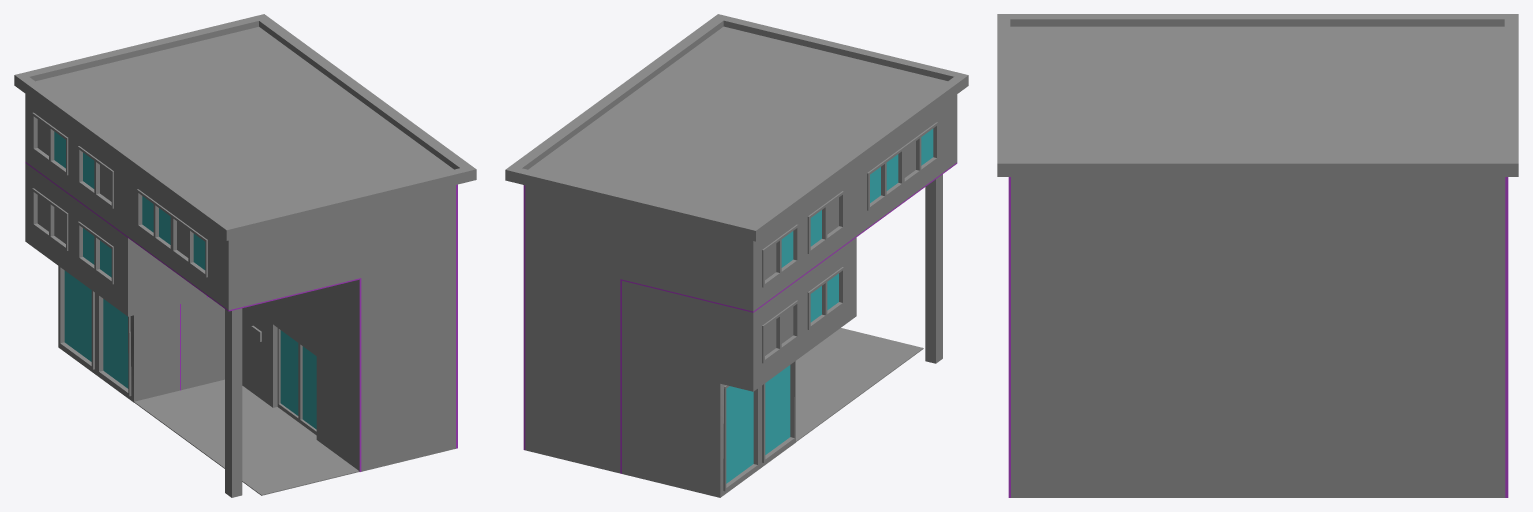
Rendered from BuildingS_07_var1.fbx.
The picture shows the model from 3 angles, left to right: view 1: azimuth 30°, elevation 25°; view 2: azimuth 150°, elevation 25°; view 3: azimuth 270°, elevation 25°; orthographic projection. The views are drawn at different scales.
Visible parts, largest first — view 1: BuildingS_07_var1; view 2: BuildingS_07_var1; view 3: BuildingS_07_var1.
Part boxes in pixels (x1,y1,x2,y2): BuildingS_07_var1: [14, 14, 476, 497]; BuildingS_07_var1: [505, 14, 968, 497]; BuildingS_07_var1: [997, 14, 1518, 497].
Bounding box in the file's own units: 0.2113 × 0.2255 × 0.3108.
